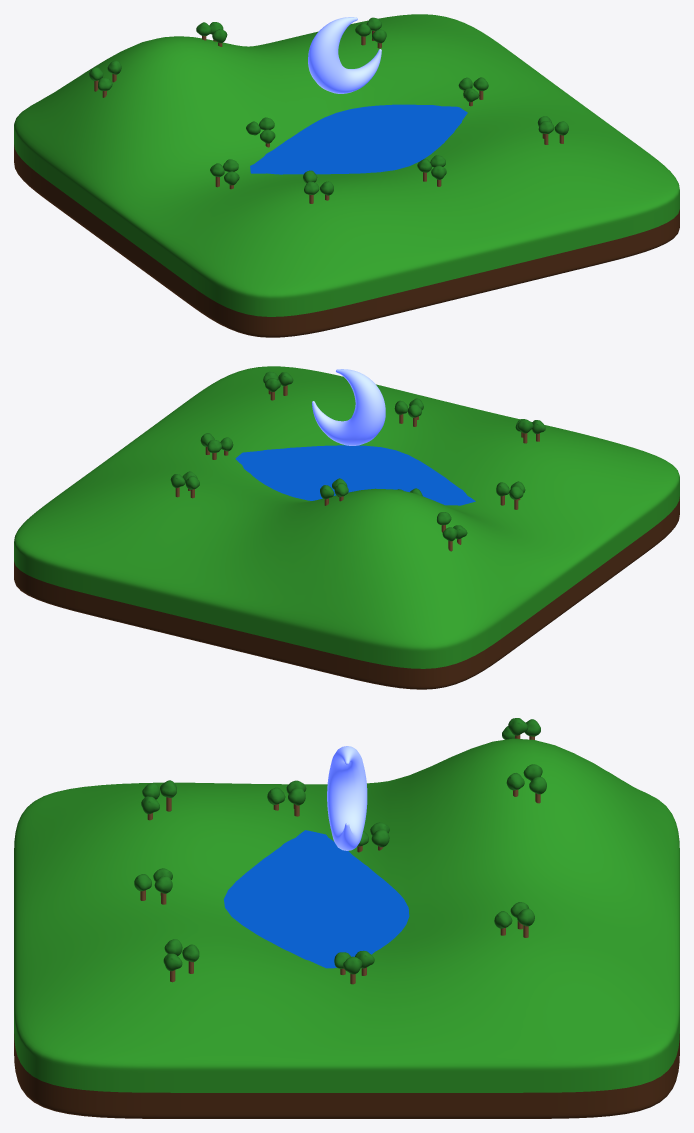
The model's file is sunp.glb.
The picture shows the model from 3 angles, top to bottom: view 1: azimuth 30°, elevation 25°; view 2: azimuth 150°, elevation 25°; view 3: azimuth 270°, elevation 25°; orthographic projection. The views are drawn at different scales.
Visible parts, largest first — view 1: Plane, Plane.001, moon; view 2: Plane, Plane.001, moon; view 3: Plane, Plane.001, moon.
Boxes of the visible parts, <box> form: Plane: <box>14,14,679,337</box>; Plane.001: <box>250,104,467,174</box>; moon: <box>308,17,381,93</box>; Plane: <box>14,366,679,689</box>; Plane.001: <box>235,445,475,505</box>; moon: <box>312,369,385,445</box>; Plane: <box>14,738,679,1118</box>; Plane.001: <box>223,830,409,968</box>; moon: <box>327,746,367,850</box>.
Size of the model in its own units: 12.68 by 6.53 by 12.68.
